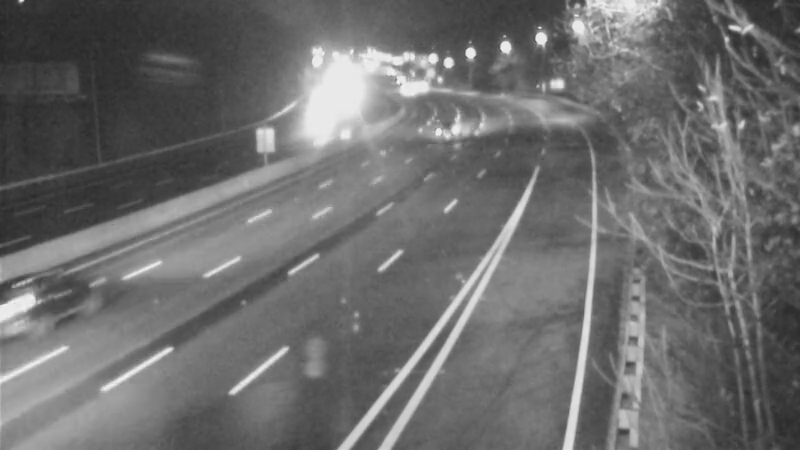vehicle: (1, 256, 80, 336), (381, 65, 431, 115), (424, 105, 474, 155)
